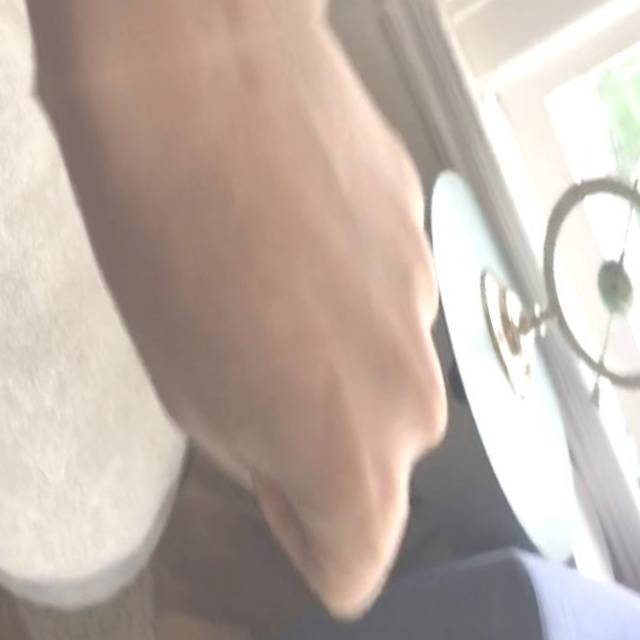Rock: (0, 0, 378, 91)
